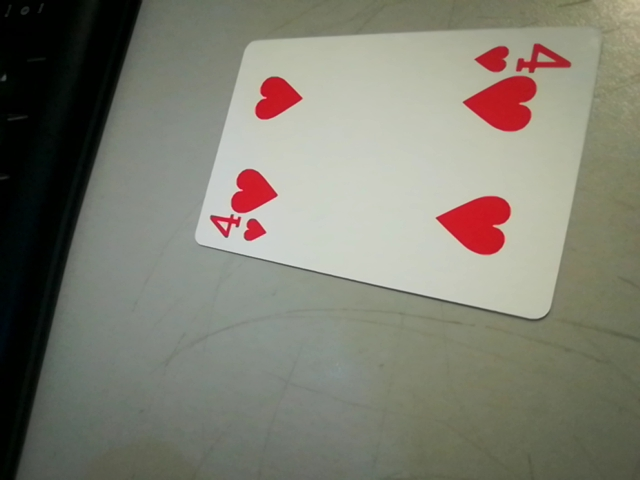hx 4: (469, 44, 574, 77)
